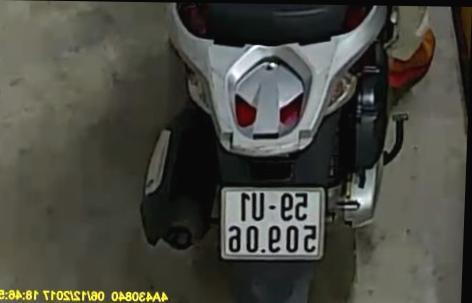License_Plate: (221, 179, 326, 261)
